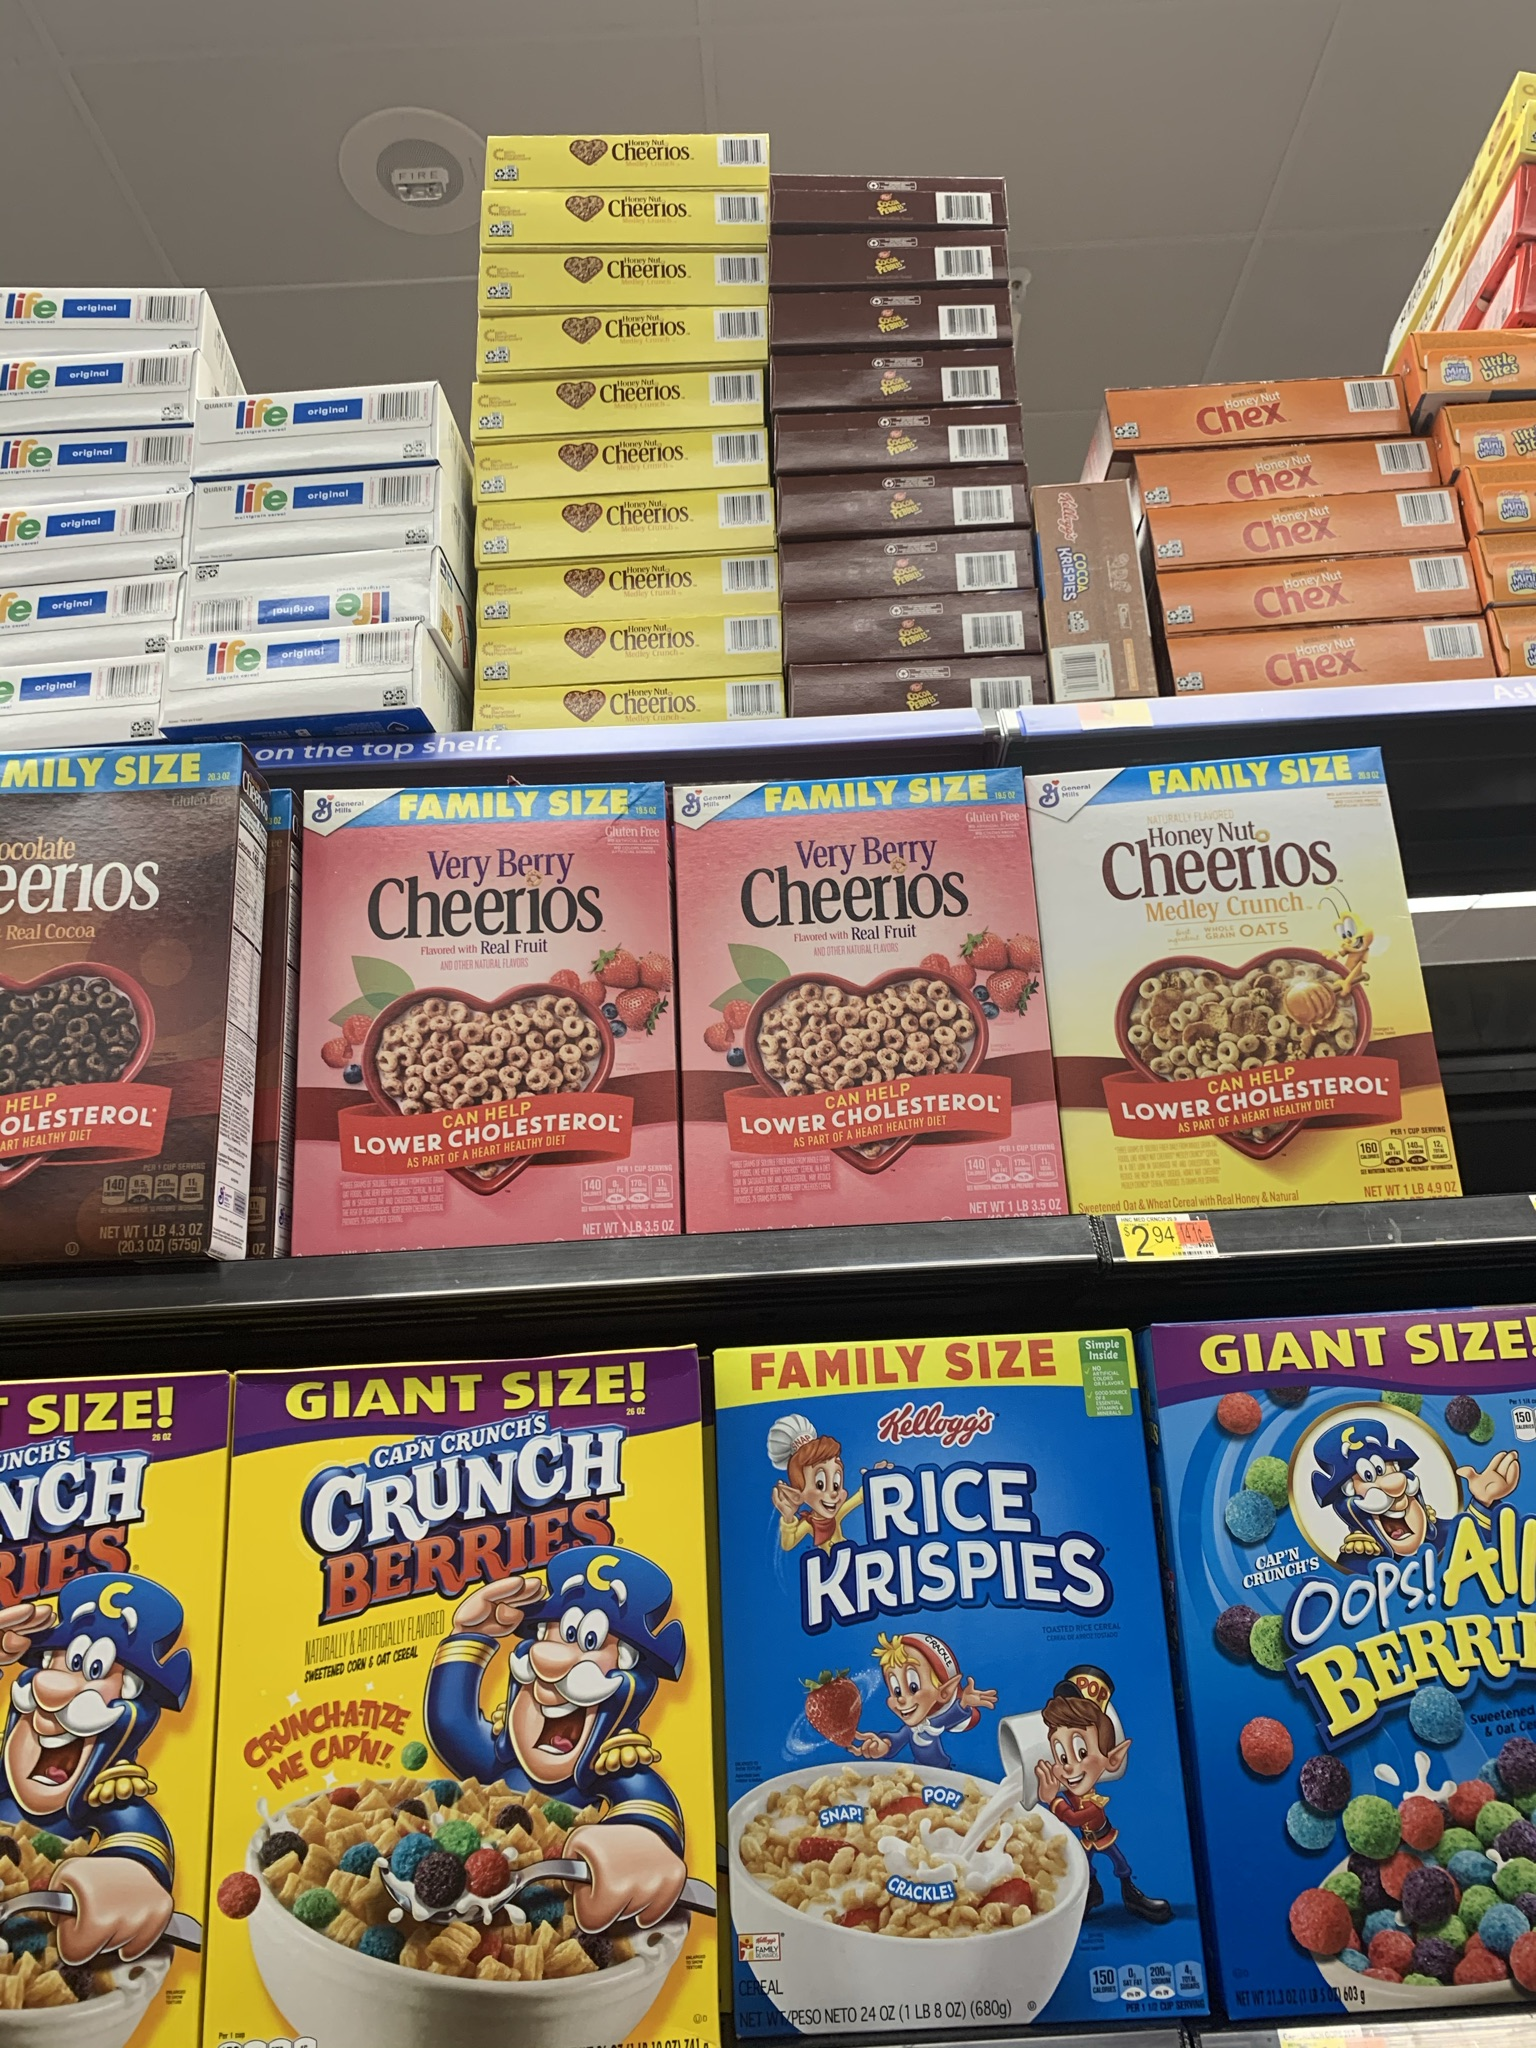box: (263, 1385, 702, 2048), (776, 1359, 1128, 2032), (1241, 1342, 1536, 2009), (323, 805, 671, 1230), (702, 798, 1042, 1206), (2, 1387, 202, 2048), (1075, 787, 1396, 1185), (2, 769, 244, 1242)
